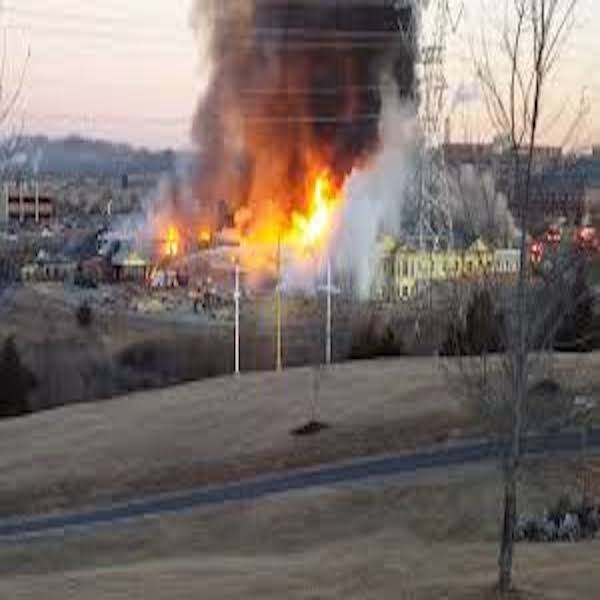fire: (254, 115, 364, 262), (159, 204, 218, 254)
